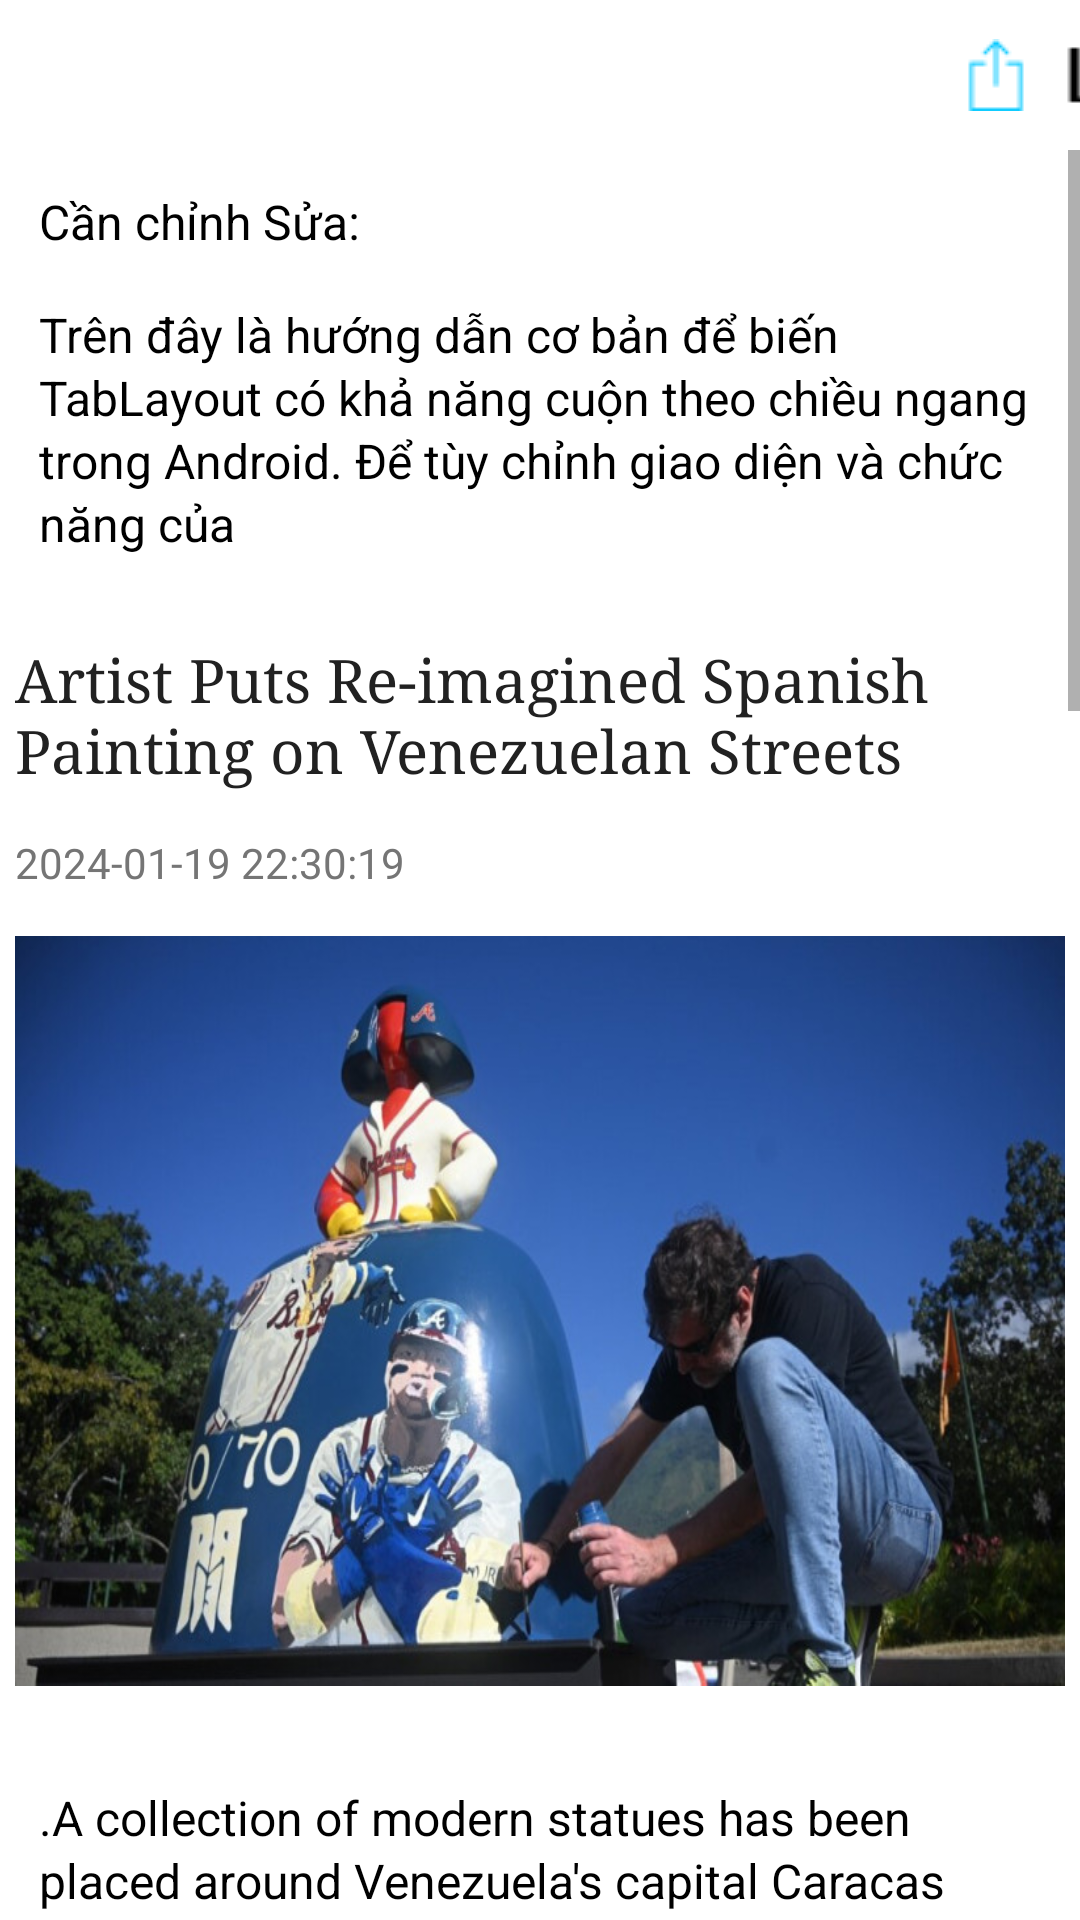

Point at icon controls on the screen. Image size 1080 × 1920, points as point (x, y).
icupload: point (996, 75)
